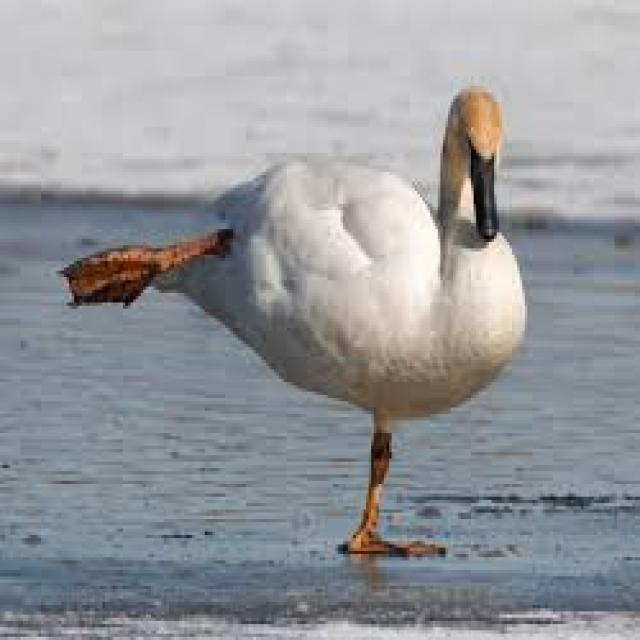swan: (61, 86, 525, 551)
